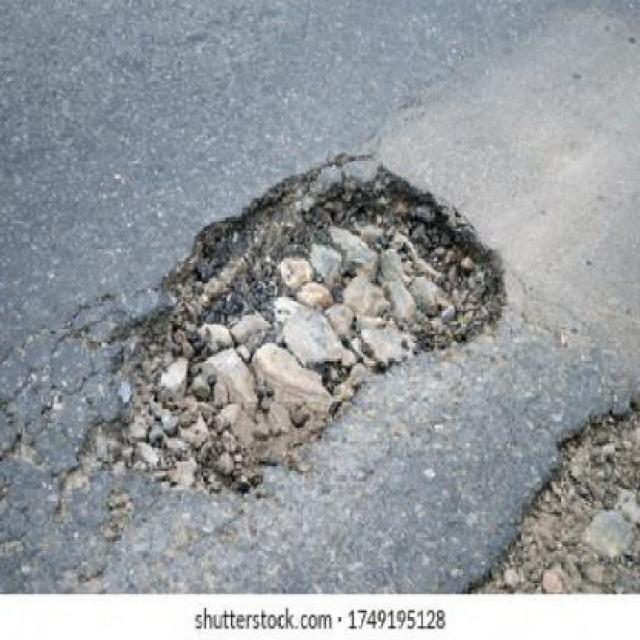Buraco: (82, 166, 510, 500), (453, 396, 640, 595)
